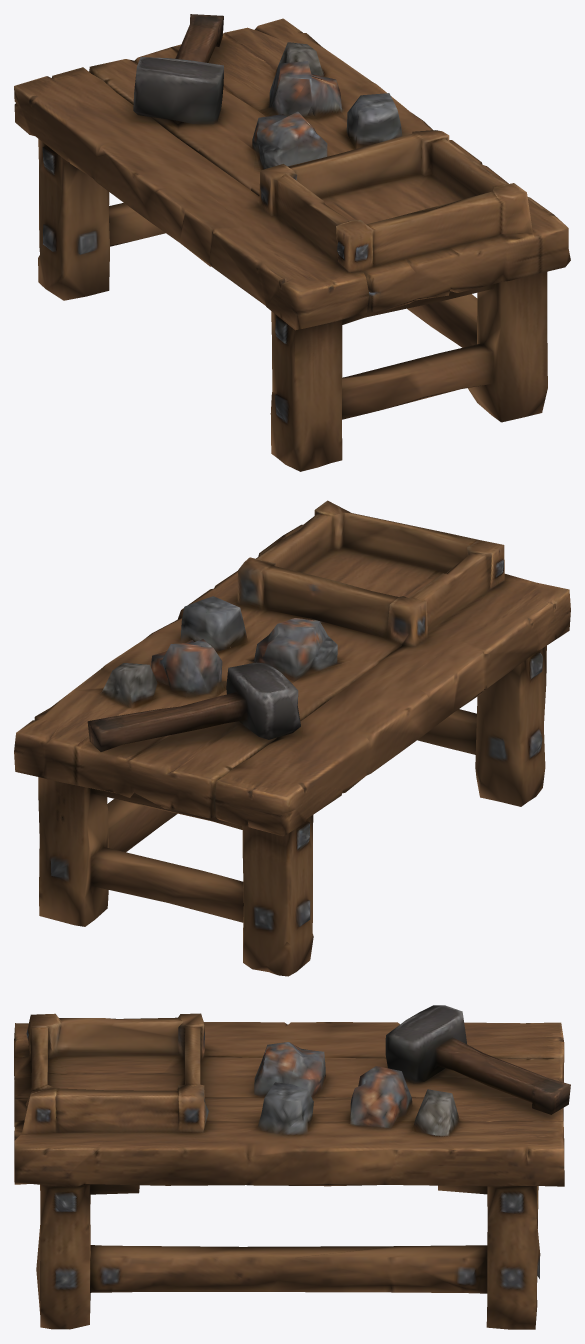
File: textures.glb
The picture shows the model from 3 angles, top to bottom: view 1: azimuth 30°, elevation 25°; view 2: azimuth 150°, elevation 25°; view 3: azimuth 270°, elevation 25°; orthographic projection. The views are drawn at different scales.
Parts seen in each view (by area): view 1: tripo_node_9d4e402f-2beb-43be-aab8-33b844c473a6; view 2: tripo_node_9d4e402f-2beb-43be-aab8-33b844c473a6; view 3: tripo_node_9d4e402f-2beb-43be-aab8-33b844c473a6.
Part boxes in pixels (box(x1,y1,x2,y2)): tripo_node_9d4e402f-2beb-43be-aab8-33b844c473a6: box(14, 14, 570, 471); tripo_node_9d4e402f-2beb-43be-aab8-33b844c473a6: box(14, 500, 570, 976); tripo_node_9d4e402f-2beb-43be-aab8-33b844c473a6: box(14, 1005, 570, 1329).
Bounding box in the file's own units: 0.5453 × 0.4576 × 1.
1 material, 1 textured.
